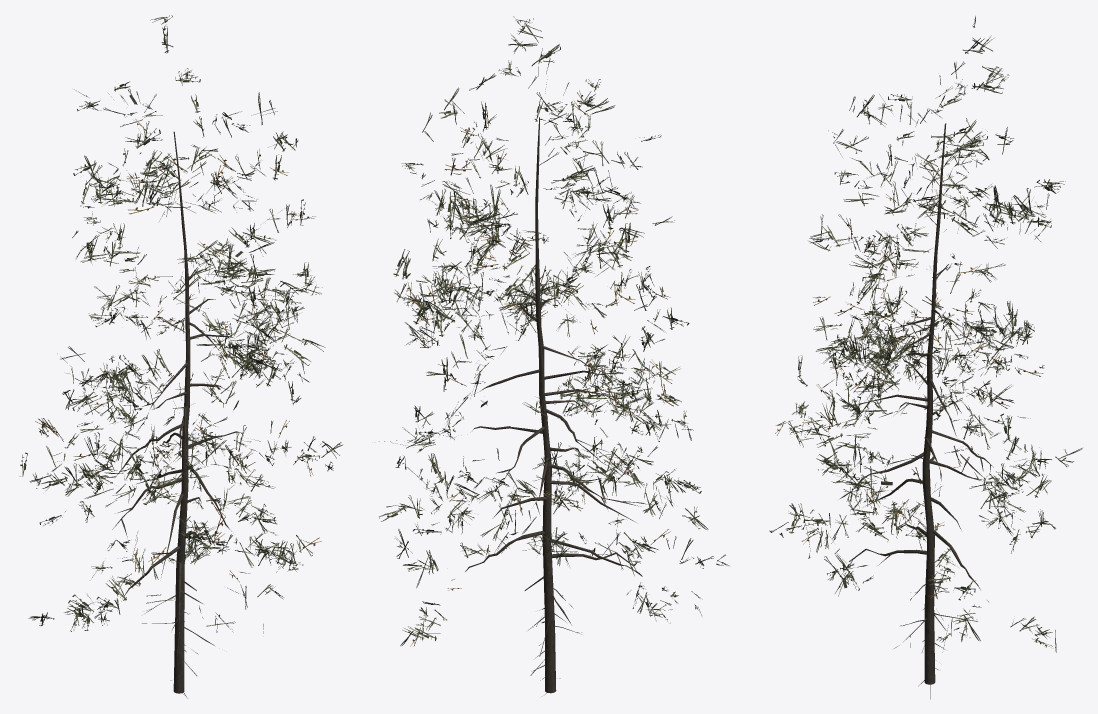
Rendered from pine.glb.
3 renders of one model, left to right at view 1: azimuth 30°, elevation 25°; view 2: azimuth 150°, elevation 25°; view 3: azimuth 270°, elevation 25°, orthographic. The views are drawn at different scales.
Visible parts, largest first — view 1: lod1; view 2: lod1; view 3: lod1.
Part boxes in pixels (box(x1,y1,x2,y2)): lod1: box(19, 15, 342, 698); lod1: box(379, 16, 729, 694); lod1: box(769, 16, 1082, 699).
Size of the model in its own units: 8.92 by 18.76 by 8.15.
Materials: 2 (2 with a texture image).
